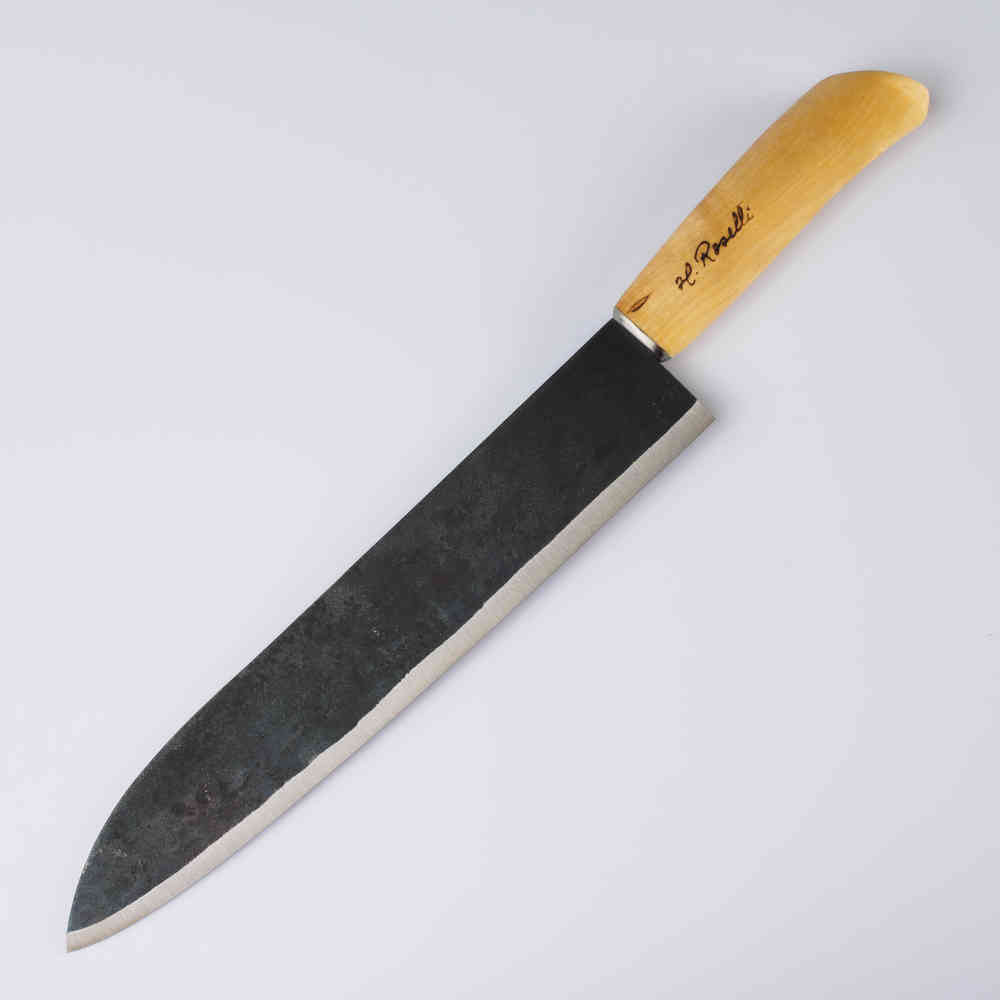knife: (65, 63, 933, 957)
